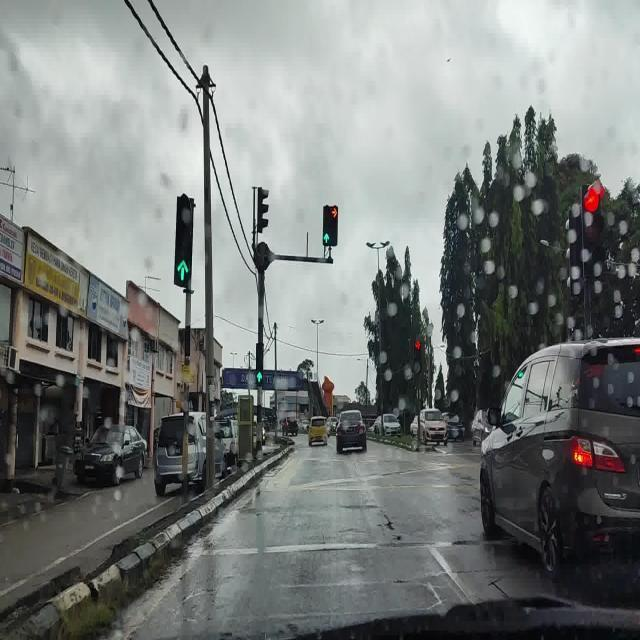green_light: (174, 192, 194, 284), (256, 344, 264, 384), (323, 204, 331, 243)
red_light: (582, 181, 602, 284), (331, 204, 338, 246), (414, 338, 422, 374)
